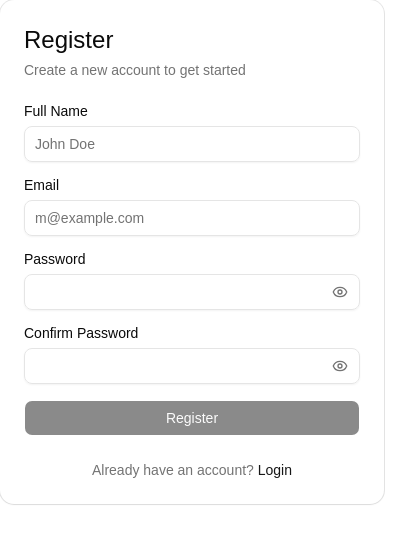
Test case: RegisterForm - password field validation › shows an error when the password is empty and blurred
Step 1. Click the password field labelled "Password" → [192, 292], box [24,274,360,310]
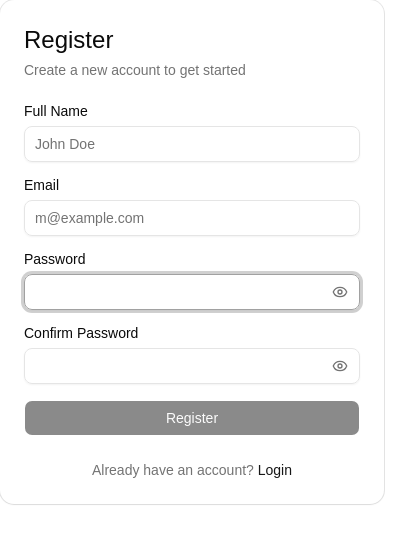
Step 2. Press Tab
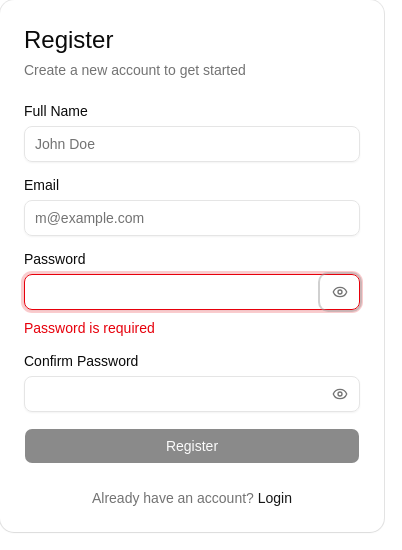
Check: the text "Password is required" is shown, box [24,320,155,336]
